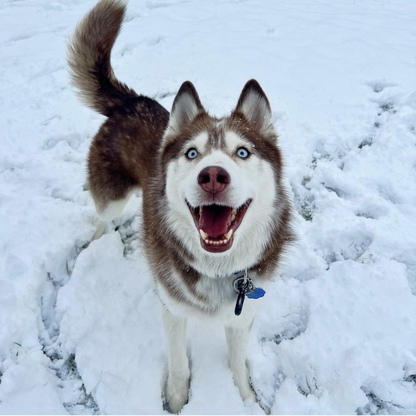husky: (55, 1, 305, 414)
